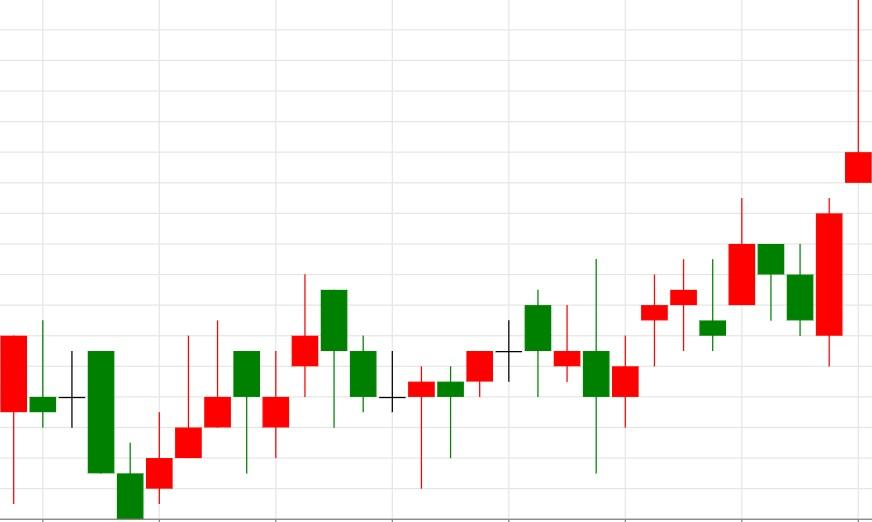bullish_engulfing_rise: (728, 198, 843, 368)
three_white_soldiers_rise: (0, 321, 232, 520)
